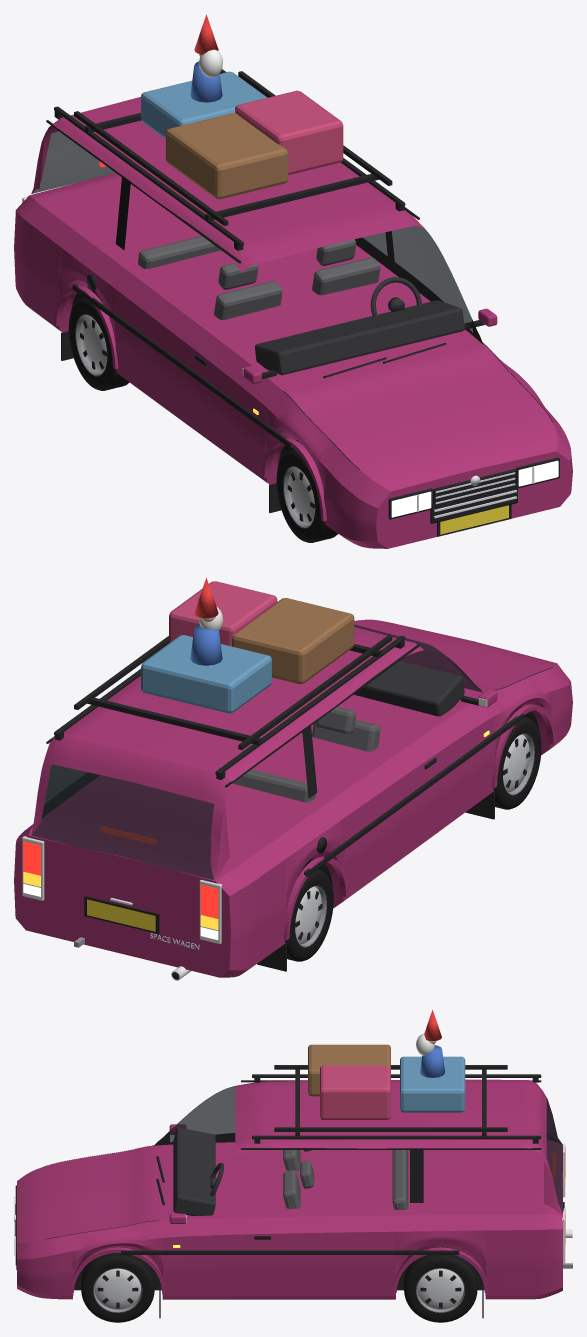
Rendered from spacewagen.glb.
The picture shows the model from 3 angles, top to bottom: view 1: azimuth 30°, elevation 25°; view 2: azimuth 150°, elevation 25°; view 3: azimuth 270°, elevation 25°; orthographic projection. The views are drawn at different scales.
Parts seen in each view (by area): view 1: tub, hood, cabin_roof, quarter_R, nose, door_R, suitcase_0, dash, cabin_glass, suitcase_1, fender_R, suitcase_2 (+23 smaller); view 2: tail, cabin_roof, tub, quarter_R, cabin_glass, door_R, suitcase_0, suitcase_2, hood, dash, suitcase_1, fender_R (+25 smaller); view 3: tub, quarter_L, cabin_roof, door_L, hood, wheel_FL, wheel_RL, fender_L, suitcase_1, dash, nose, suitcase_2 (+15 smaller).
Part boxes in pixels (box(x1,y1,x2,y2)): tub: box(38, 181, 480, 390); hood: box(284, 342, 552, 469); cabin_roof: box(31, 97, 423, 272); quarter_R: box(23, 203, 197, 422); nose: box(345, 423, 572, 548); door_R: box(183, 324, 282, 484); suitcase_0: box(165, 113, 288, 199); dash: box(255, 300, 464, 375); cabin_glass: box(33, 131, 472, 332); suitcase_1: box(235, 90, 343, 174); fender_R: box(268, 391, 359, 544); suitcase_2: box(141, 71, 267, 138); tail: box(14, 821, 249, 977); cabin_roof: box(31, 627, 423, 879); tub: box(41, 692, 478, 867); quarter_R: box(235, 753, 413, 975); cabin_glass: box(31, 624, 482, 879); door_R: box(398, 703, 497, 851); suitcase_0: box(232, 598, 354, 683); suitcase_2: box(141, 635, 271, 713); hood: box(354, 620, 551, 695); dash: box(354, 661, 464, 716); suitcase_1: box(169, 581, 277, 646); fender_R: box(489, 667, 567, 755); tub: box(159, 1142, 541, 1220); quarter_L: box(290, 1214, 541, 1299); cabin_roof: box(235, 1079, 562, 1213); door_L: box(159, 1217, 289, 1299); hood: box(44, 1145, 158, 1238); wheel_FL: box(81, 1253, 154, 1322); wheel_RL: box(404, 1255, 477, 1322); fender_L: box(44, 1221, 158, 1299); suitcase_1: box(320, 1065, 390, 1119); dash: box(173, 1127, 215, 1215); nose: box(17, 1166, 44, 1298); suitcase_2: box(400, 1056, 465, 1112).
Size of the model in its own units: 1.85 by 2.54 by 4.71.
